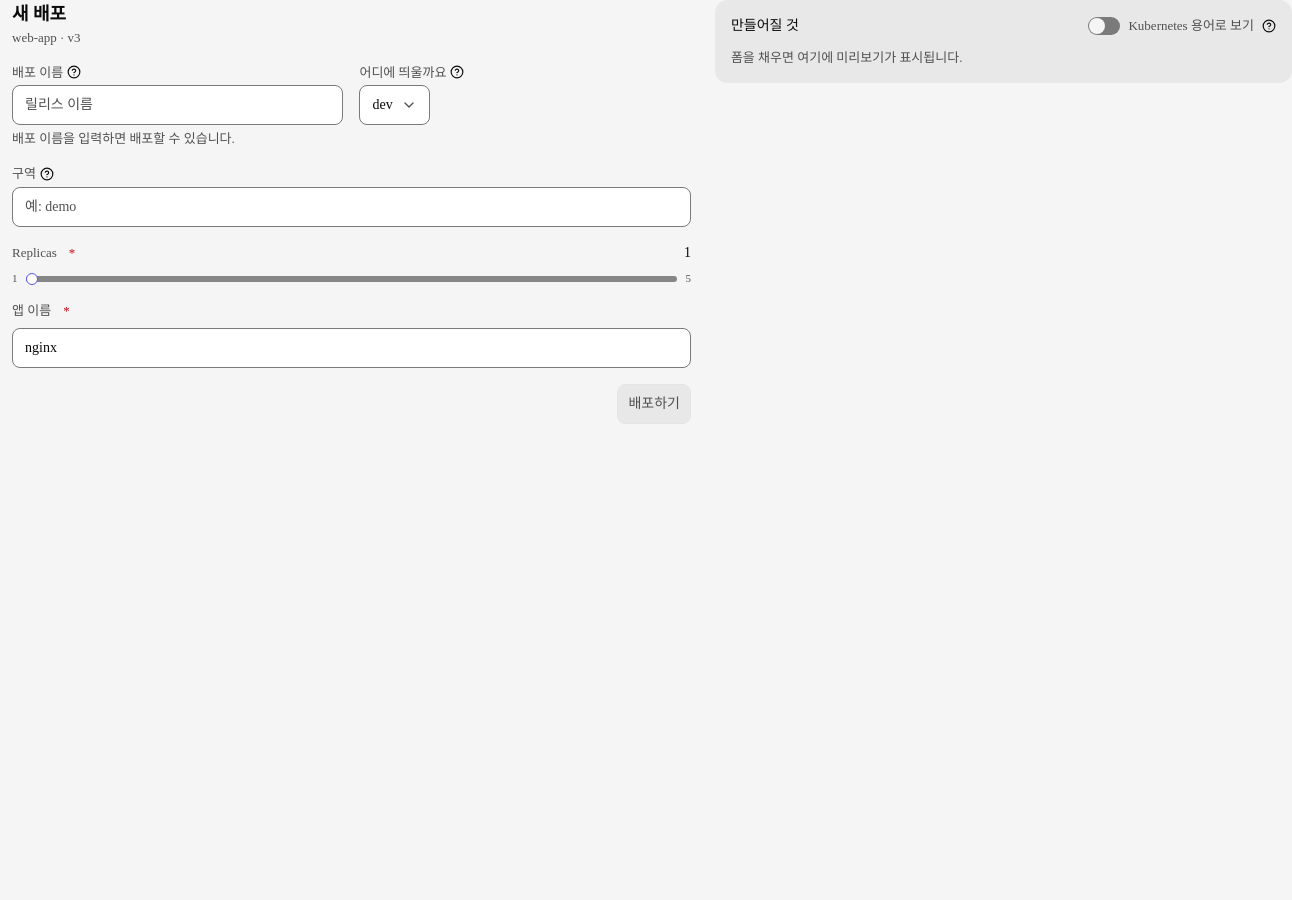
Test: DeployClient › a cluster that refuses the deploy (#6) › says the cluster refused, with the block to send an admin, and no raw message at friendly
This screenshot has width=1292, height=900.
Type "my-app" into the field labelled "배포 이름" at (178, 105), box [12,85,344,125]
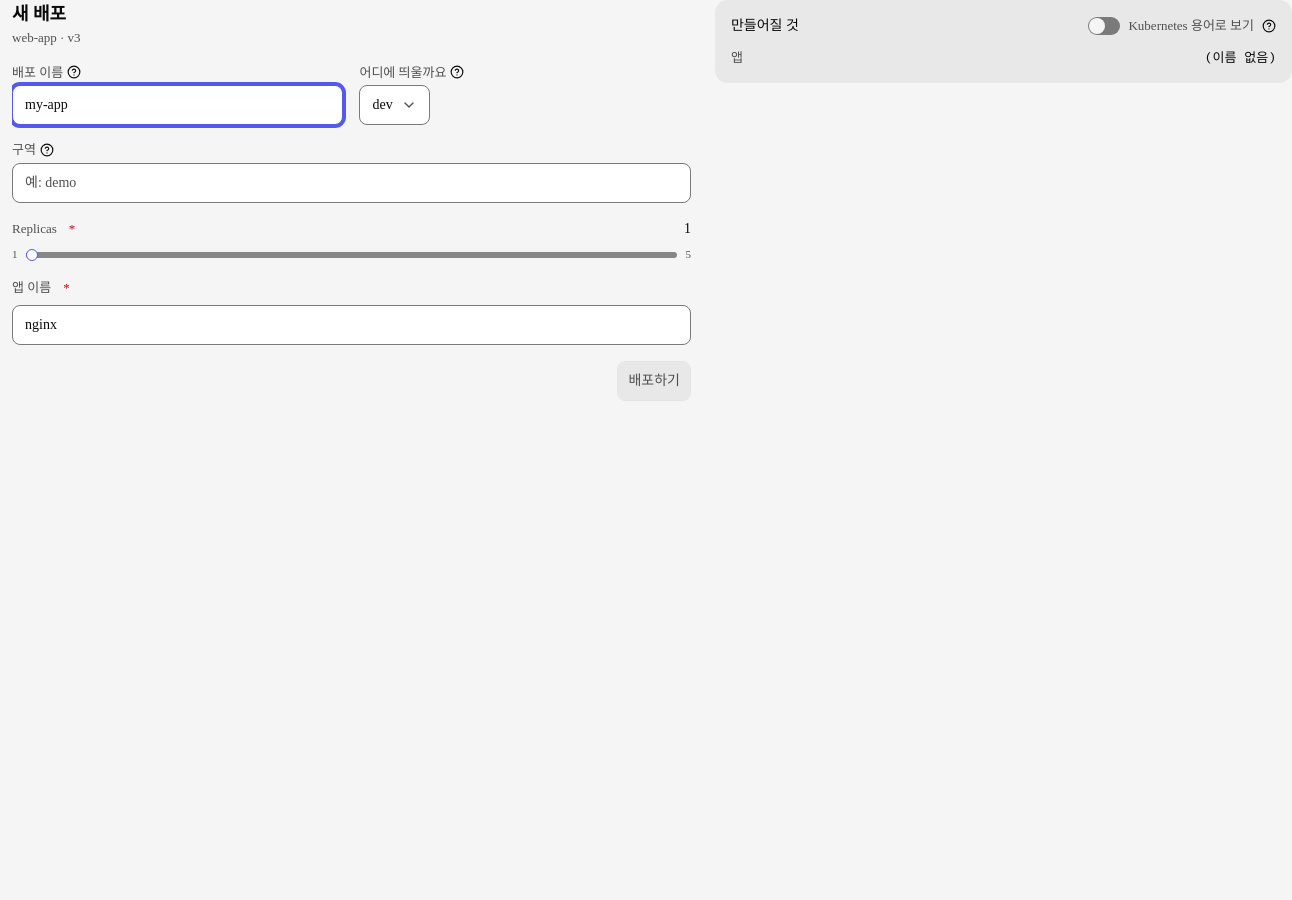
Type "default" into the field labelled "구역" at (351, 183), box [12,163,691,203]
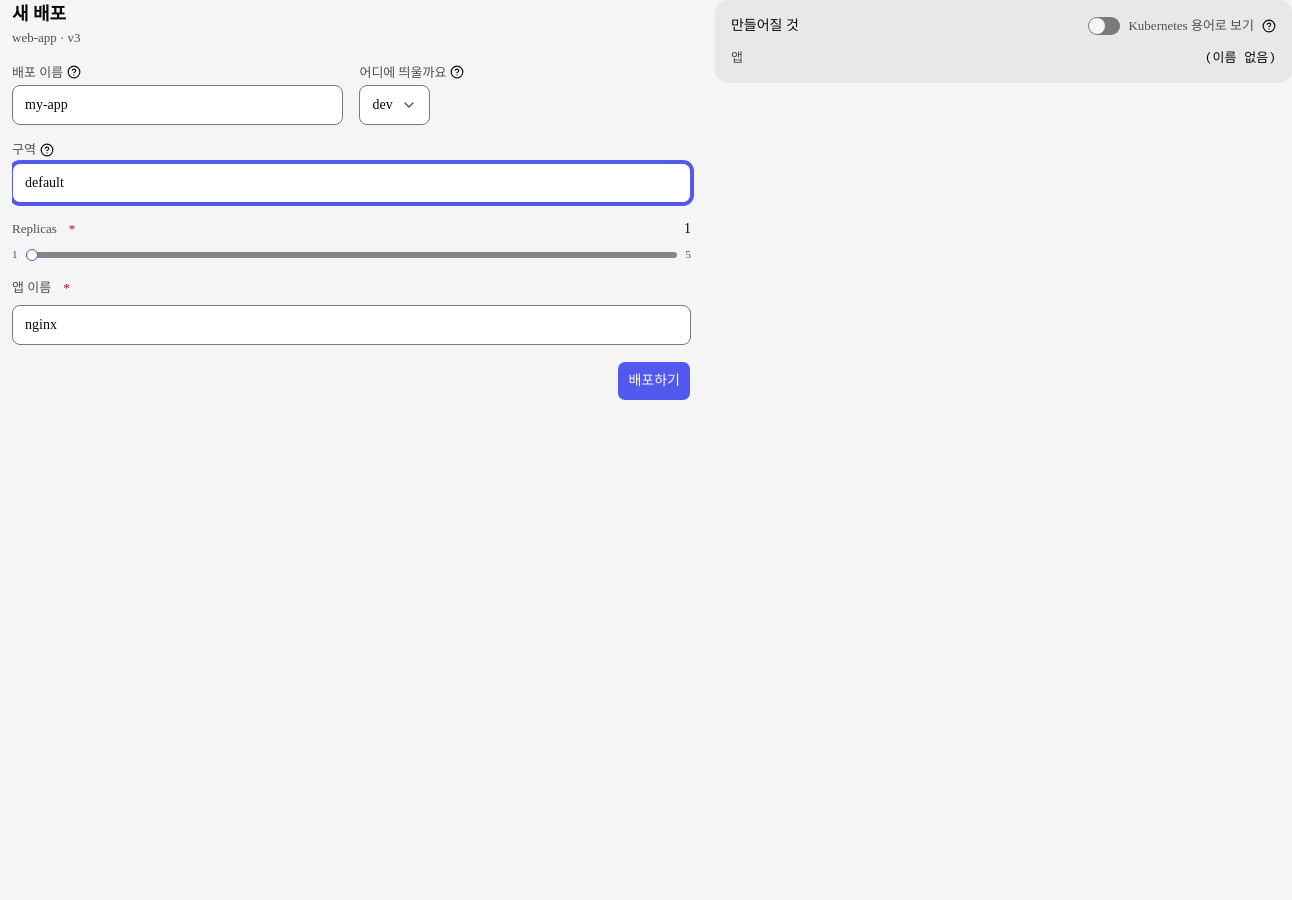
Expected: the button "배포하기" is enabled
Click the button "배포하기" at (654, 381), box [617,361,691,401]
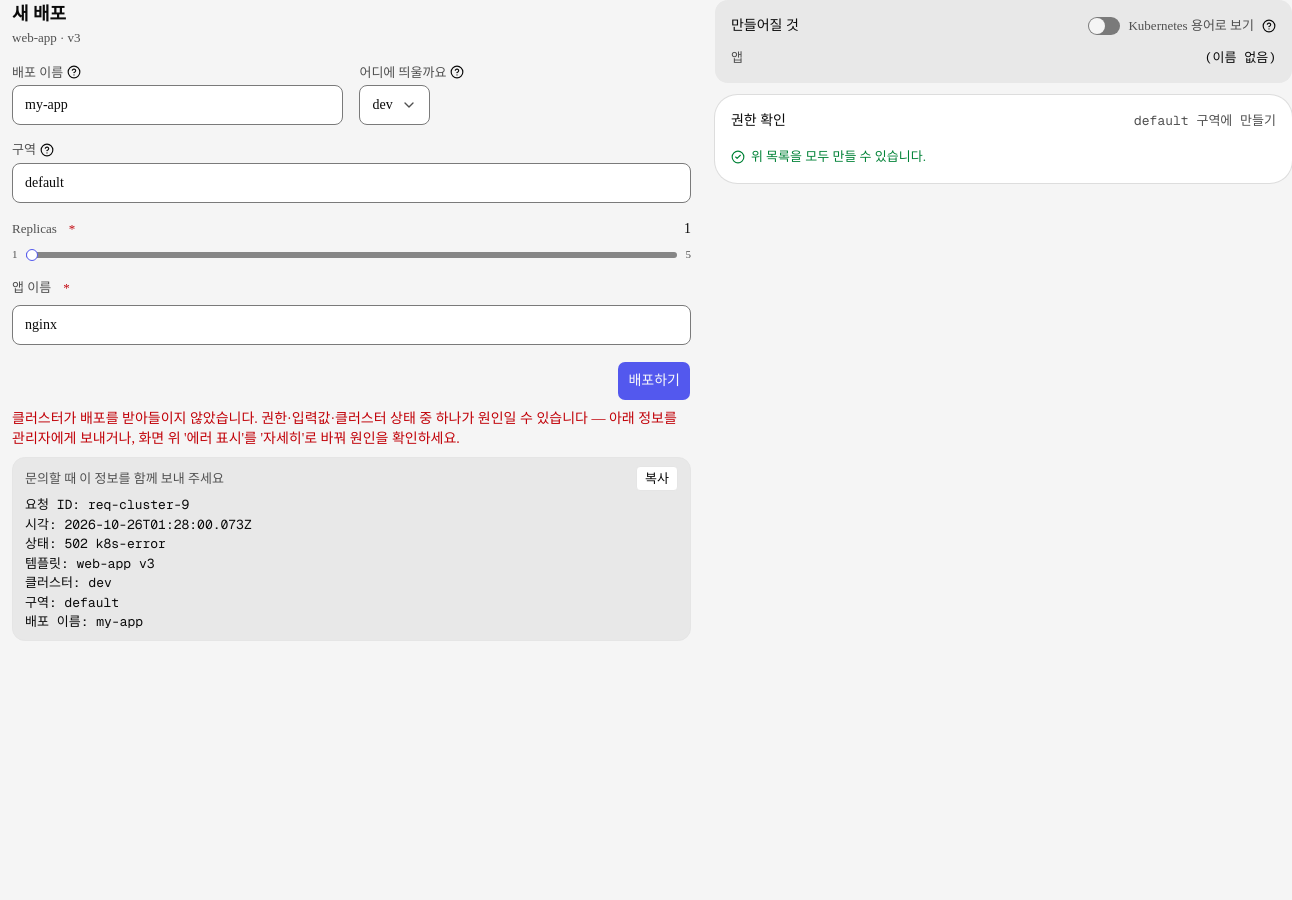
Expected: the message shows "클러스터가 배포를 받아들이지 않았습니다", [12,411,680,446]
Expected: the message shows "요청 ID: req-cluster-9", [25,496,252,630]
Expected: the message shows "템플릿: web-app v3", [25,496,252,630]
